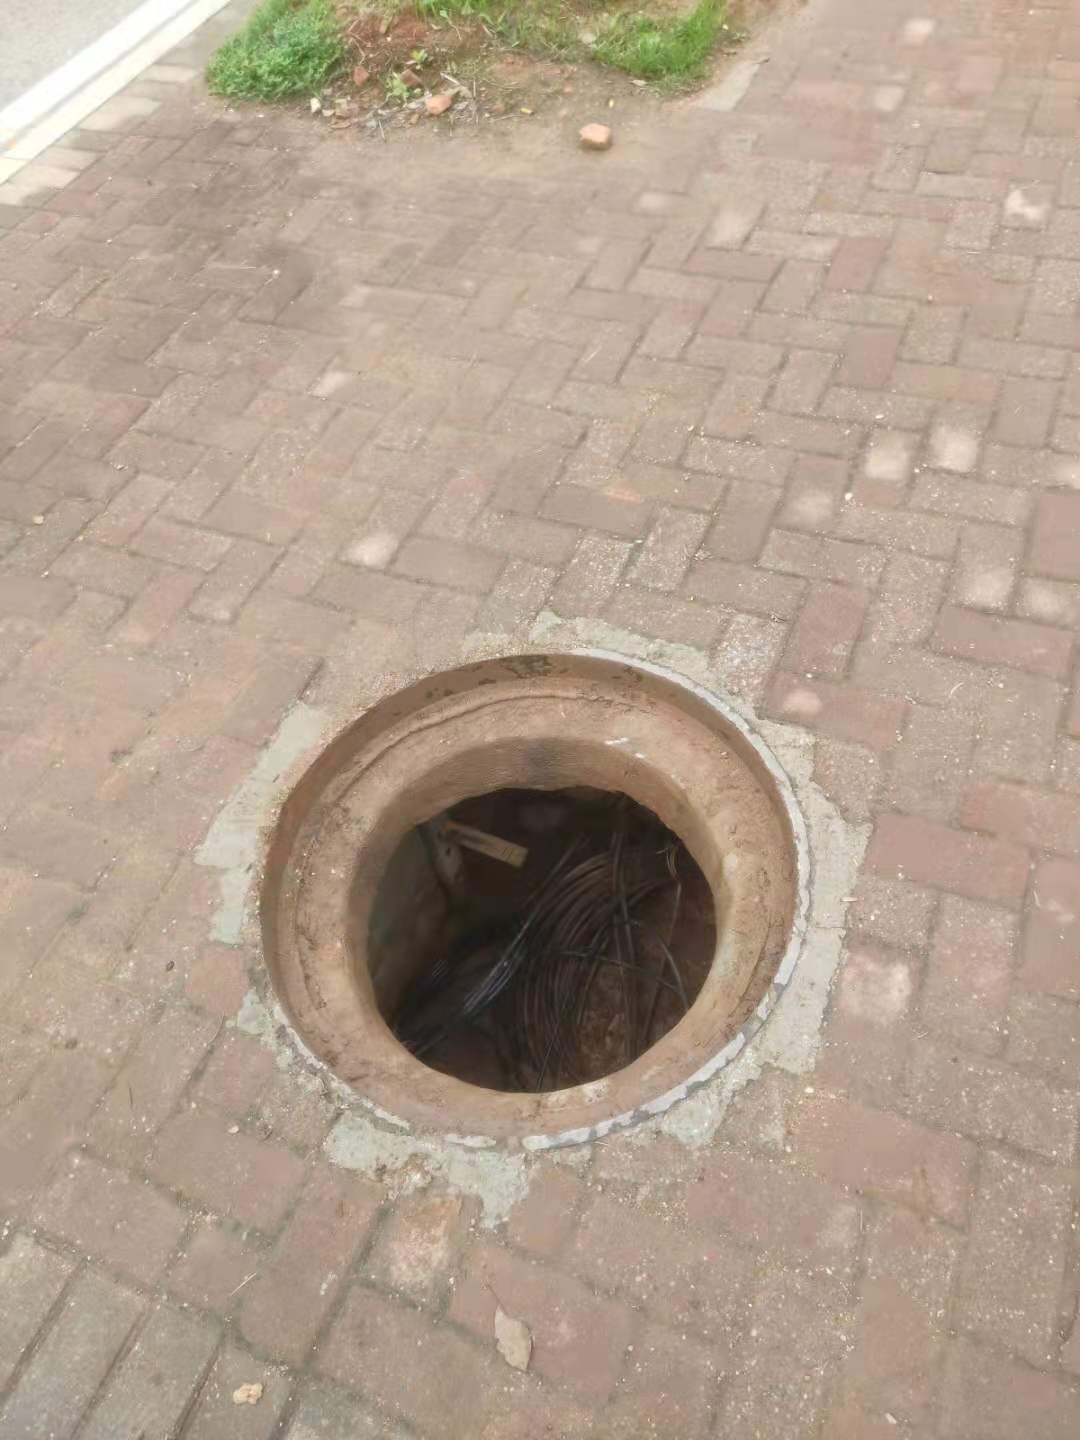lose: (246, 644, 815, 1155)
